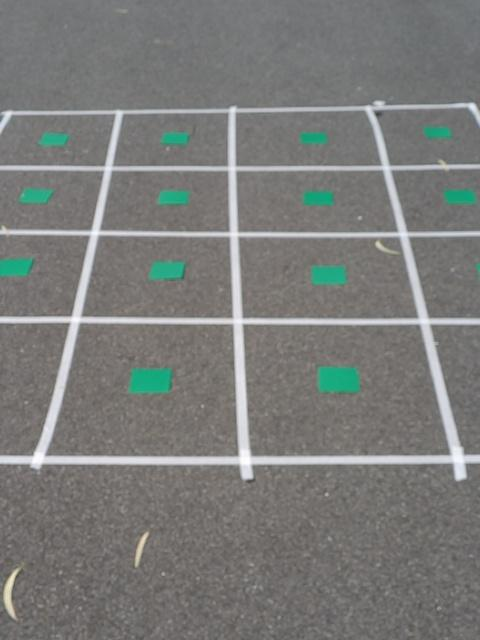weed: (317, 361, 358, 398), (127, 366, 170, 398), (311, 263, 346, 290), (0, 257, 36, 281), (148, 260, 186, 281), (19, 187, 54, 207), (156, 188, 189, 207), (302, 188, 332, 208), (443, 188, 472, 208), (160, 130, 190, 147), (38, 131, 67, 148), (422, 123, 448, 140), (299, 129, 324, 146)
